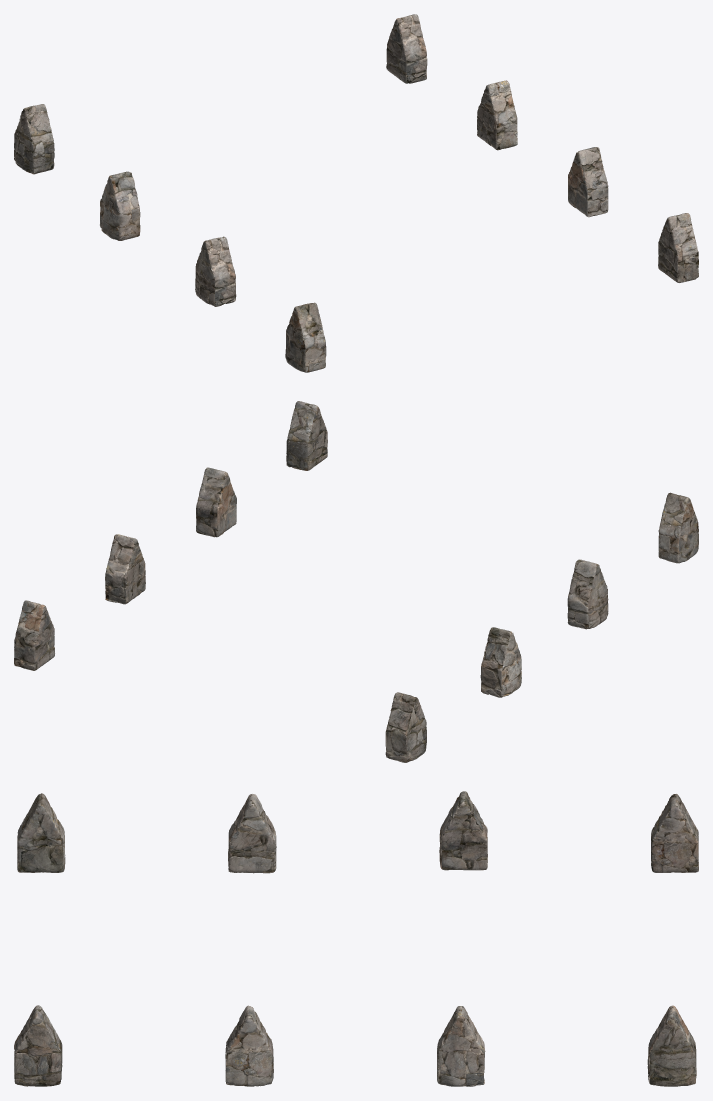
3 views of the same model, one above another, from view 1: azimuth 30°, elevation 25°; view 2: azimuth 150°, elevation 25°; view 3: azimuth 270°, elevation 25° (orthographic). The views are drawn at different scales.
Visible parts, largest first — view 1: Zapatas; view 2: Zapatas; view 3: Zapatas.
Boxes of the visible parts, <box> form: Zapatas: <box>14,14,698,372</box>; Zapatas: <box>14,401,698,762</box>; Zapatas: <box>14,791,698,1086</box>.
Size of the model in its own units: 20.69 by 2.95 by 25.94.
1 material, 1 textured.
